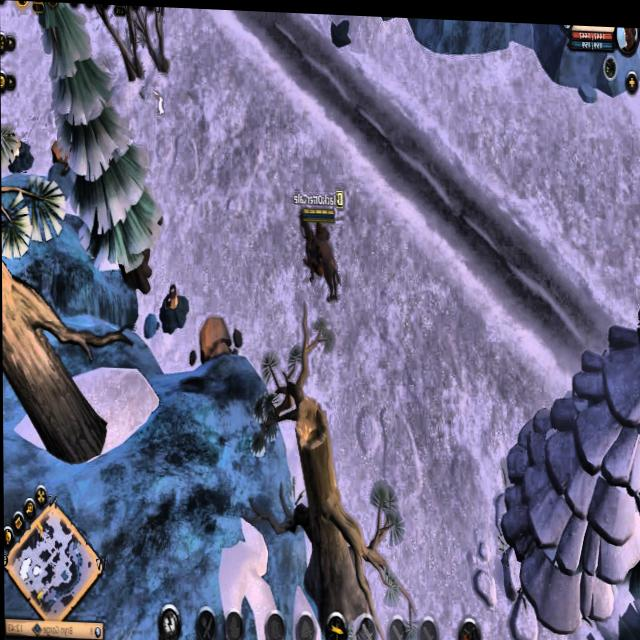copperore: (158, 279, 189, 333)
limestone: (198, 308, 242, 365)
